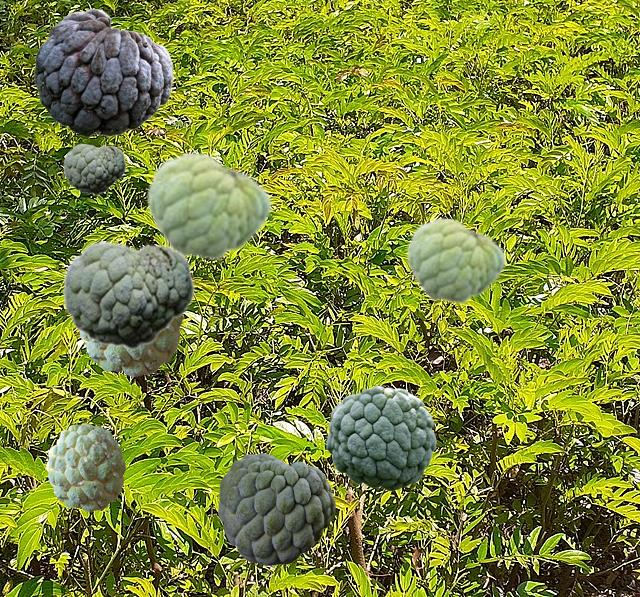atis: (34, 8, 172, 135), (62, 240, 194, 349), (145, 150, 271, 261), (218, 453, 334, 564), (326, 385, 435, 490), (405, 216, 505, 304), (46, 423, 124, 510), (79, 317, 181, 375), (63, 143, 125, 194)
